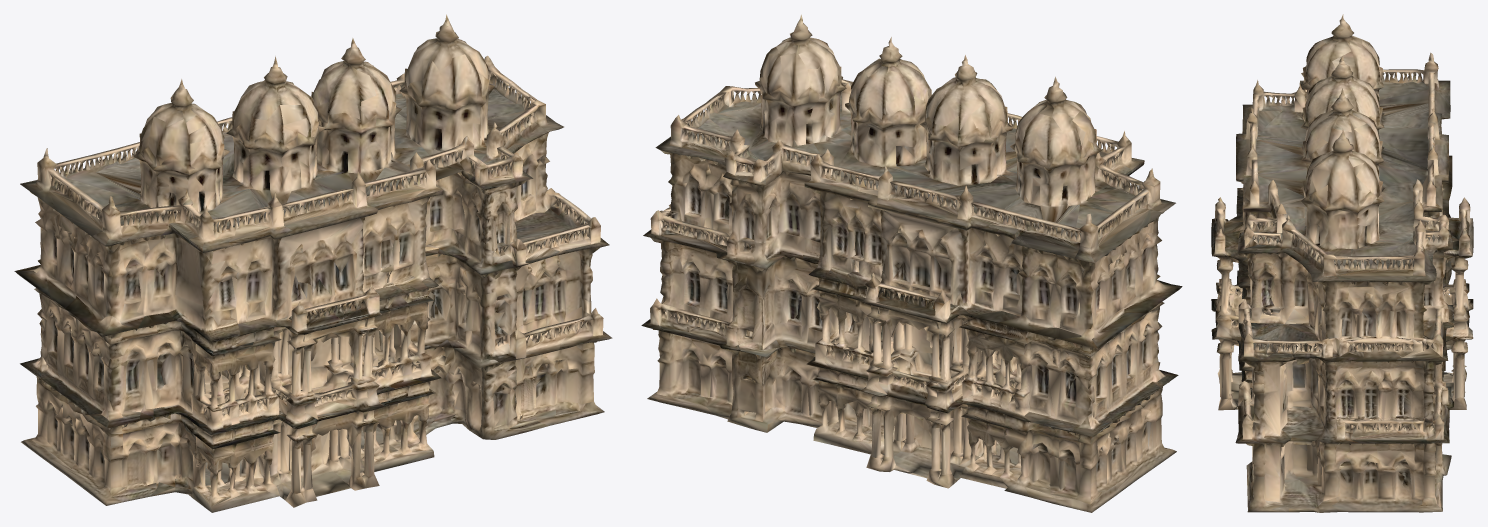
File: Palace_of_the_Four_Do_2.glb
3 views of the same model, side by side, from view 1: azimuth 30°, elevation 25°; view 2: azimuth 150°, elevation 25°; view 3: azimuth 270°, elevation 25° (orthographic). The views are drawn at different scales.
Parts seen in each view (by area): view 1: Palace_of_the_Four_Do_2; view 2: Palace_of_the_Four_Do_2; view 3: Palace_of_the_Four_Do_2.
Part boxes in pixels (<box>): Palace_of_the_Four_Do_2: <box>14,14,612,512</box>; Palace_of_the_Four_Do_2: <box>641,14,1182,512</box>; Palace_of_the_Four_Do_2: <box>1211,14,1473,512</box>.
Size of the model in its own units: 1.9 by 1.48 by 1.02.
1 material, 1 textured.
